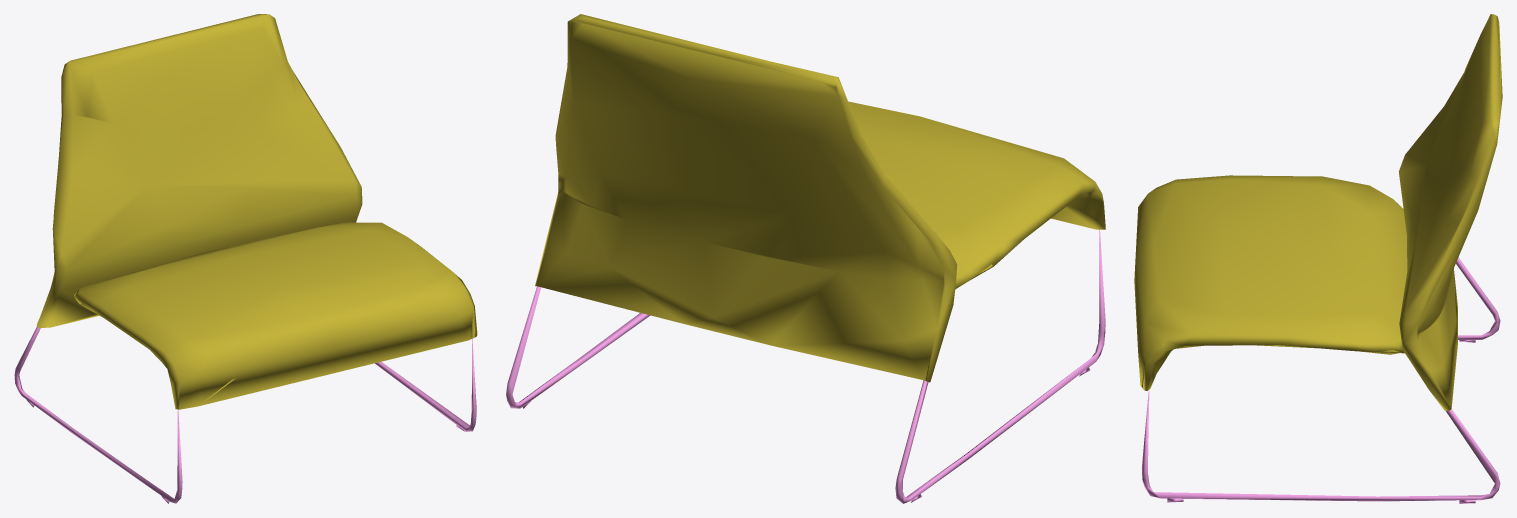
Rendered from wooden.fbx.
3 views of the same model, side by side, from view 1: azimuth 30°, elevation 25°; view 2: azimuth 150°, elevation 25°; view 3: azimuth 270°, elevation 25° (orthographic). The views are drawn at different scales.
Parts seen in each view (by area): view 1: Box04, Line01.002; view 2: Box04, Line01.002; view 3: Box04, Line01.002.
Boxes of the visible parts, x1,y1,x2,y2 form: Box04: (36,14,477,409); Line01.002: (14,327,476,503); Box04: (535,14,1105,382); Line01.002: (506,229,1105,503); Box04: (1134,14,1502,410); Line01.002: (1141,257,1500,503).
Bounding box in the file's own units: 190 × 188 × 177.
